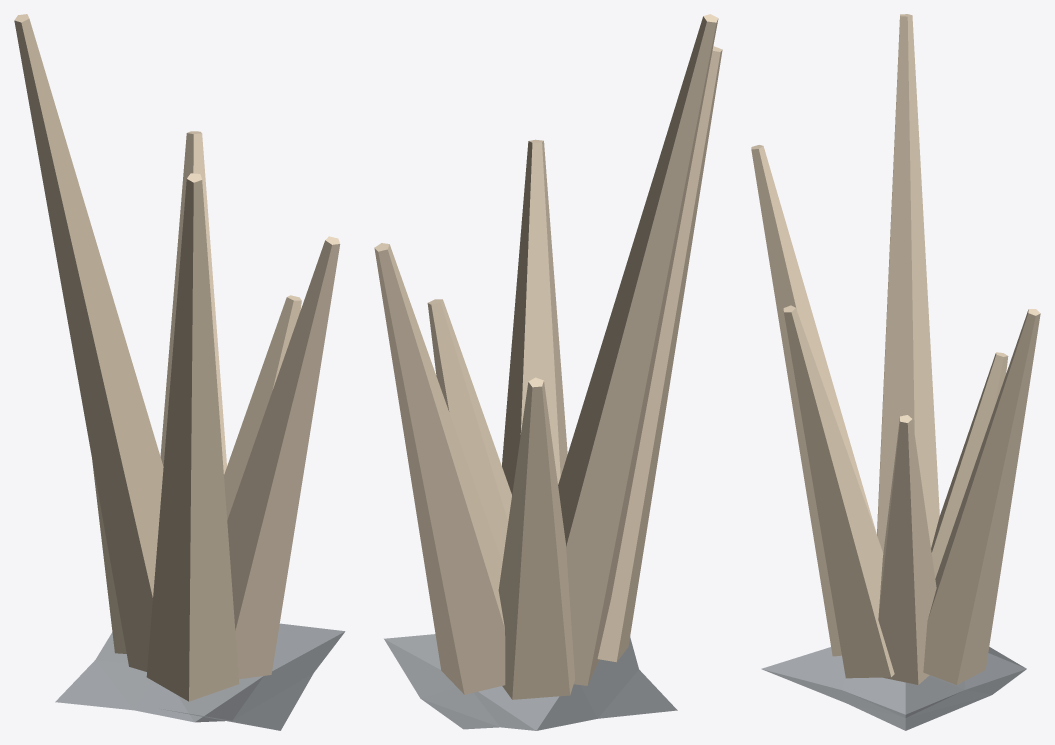
Rendered from crystal_v42.glb.
The picture shows the model from 3 angles, left to right: view 1: azimuth 30°, elevation 25°; view 2: azimuth 150°, elevation 25°; view 3: azimuth 270°, elevation 25°; orthographic projection. The views are drawn at different scales.
Visible parts, largest first — view 1: lod0; view 2: lod0; view 3: lod0.
Part boxes in pixels (left/top/right/bottom): lod0: left=14, top=14, right=345, bottom=730; lod0: left=374, top=14, right=722, bottom=730; lod0: left=751, top=14, right=1040, bottom=730.
Size of what is drawn, in the model's own units: 0.6999 by 1.52 by 0.6309.
